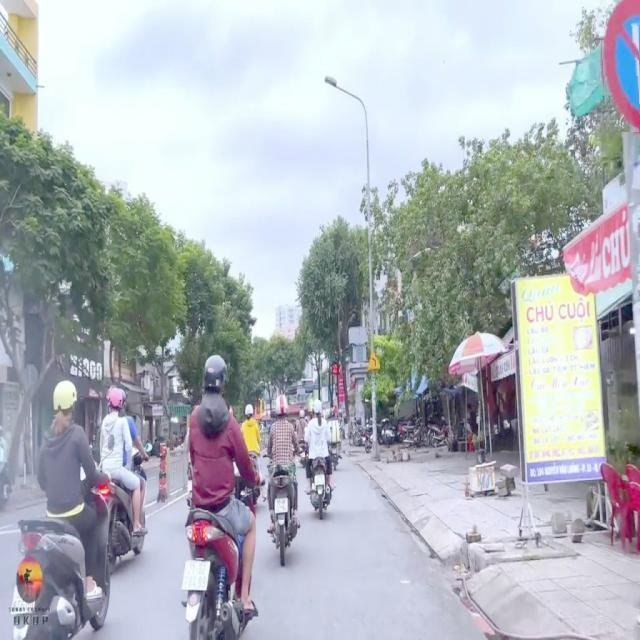201-cho-ngoat-nguy-hiem: (366, 352, 382, 372)
